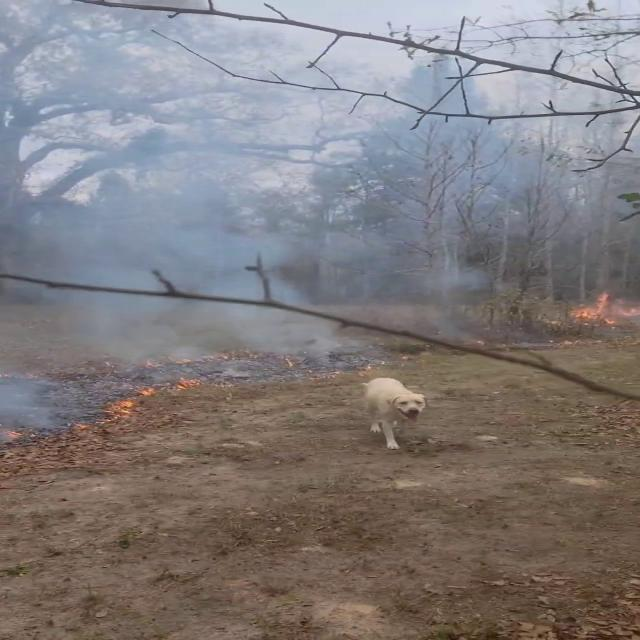Fire: (566, 288, 639, 328)
Smoke: (1, 136, 483, 384)
